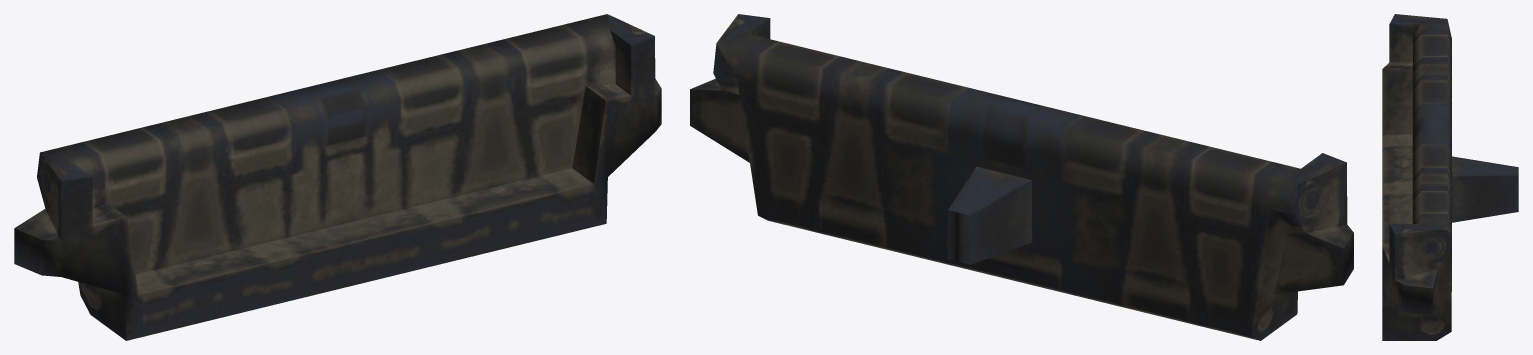
3 views of the same model, side by side, from view 1: azimuth 30°, elevation 25°; view 2: azimuth 150°, elevation 25°; view 3: azimuth 270°, elevation 25° (orthographic). The views are drawn at different scales.
Parts seen in each view (by area): view 1: set_0_group_0; view 2: set_0_group_0; view 3: set_0_group_0.
Boxes of the visible parts, x1,y1,x2,y2 form: set_0_group_0: (14,14,661,340); set_0_group_0: (690,14,1353,340); set_0_group_0: (1382,14,1518,340).
Size of the model in its own units: 0.802 by 0.2017 by 0.195.
Materials: 1 (1 with a texture image).
